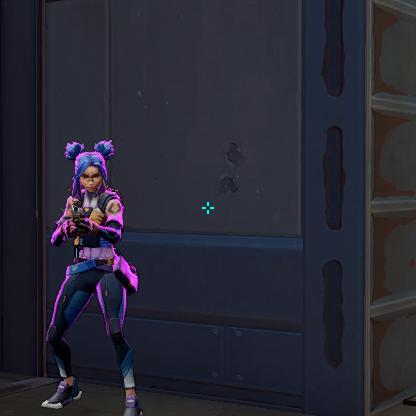enemyBody: (78, 203, 109, 256)
enemyHead: (77, 159, 101, 190)
